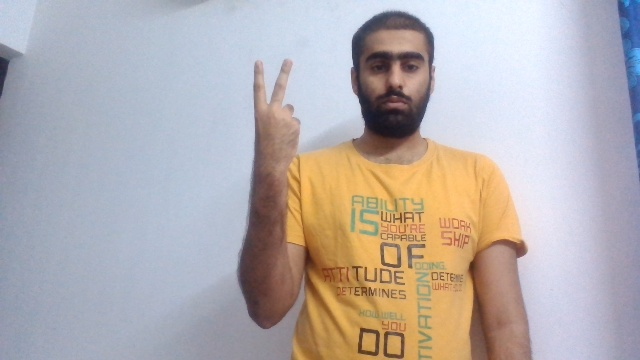scissors: (250, 58, 301, 168)
